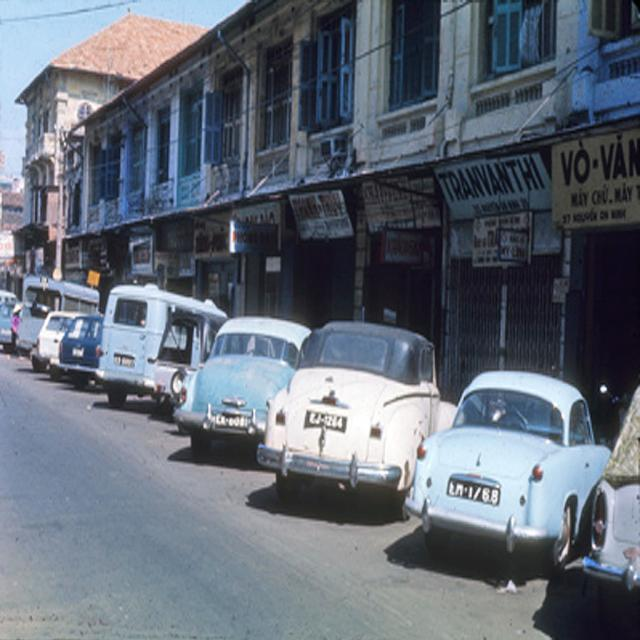car: (403, 368, 608, 571)
